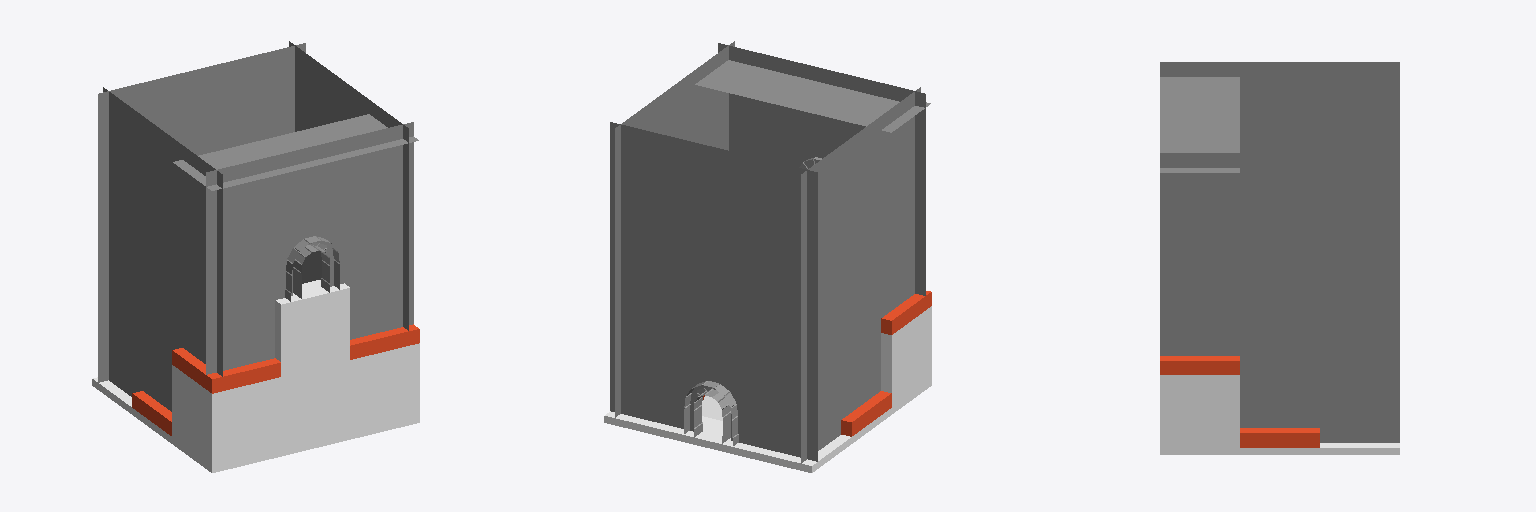
File: straightStairs.obj
3 views of the same model, side by side, from view 1: azimuth 30°, elevation 25°; view 2: azimuth 150°, elevation 25°; view 3: azimuth 270°, elevation 25° (orthographic).
Visible parts, largest first — view 1: struct_wall_main_half_18, struct_wall_main_half_24, struct_wall_main_half_15, struct_wall_main_half_14, block_default_9, struct_wall_main_half_17, block_default_20, block_default_8, block_default_4, struct_ceiling_25, struct_wall_main_half_16, struct_door_19 (+5 smaller); view 2: struct_wall_main_half_24, struct_wall_main_half_18, struct_wall_main_half_17, struct_ceiling_25, struct_wall_main_half_23, struct_wall_main_half_22, struct_door_21, struct_wall_main_half_14, block_default_0, block_default_9, struct_wall_main_half_15, struct_wall_main_half_16 (+3 smaller); view 3: struct_wall_main_half_17, struct_wall_main_half_18, struct_ceiling_25, block_default_8, block_default_0, open_block_10, open_block_12.
Boxes of the visible parts, box(x1,y1,x2,y2) form: struct_wall_main_half_18: box(103, 87, 222, 411); struct_wall_main_half_24: box(98, 43, 305, 310); struct_wall_main_half_15: box(206, 156, 274, 374); struct_wall_main_half_14: box(344, 122, 413, 339); block_default_9: box(172, 365, 280, 465); struct_wall_main_half_17: box(289, 41, 408, 330); block_default_20: box(275, 280, 349, 376); block_default_8: box(350, 343, 419, 431); block_default_4: box(281, 360, 349, 448); struct_ceiling_25: box(173, 114, 418, 190); struct_wall_main_half_16: box(275, 139, 343, 227); struct_door_19: box(275, 211, 343, 301); struct_wall_main_half_24: box(610, 122, 817, 388); struct_wall_main_half_18: box(801, 87, 920, 463); struct_wall_main_half_17: box(615, 41, 734, 417); struct_ceiling_25: box(695, 60, 930, 132); struct_wall_main_half_23: box(610, 339, 679, 427); struct_wall_main_half_22: box(749, 373, 817, 461); struct_door_21: box(680, 356, 748, 445); struct_wall_main_half_14: box(718, 43, 786, 164); block_default_0: box(604, 379, 931, 472); block_default_9: box(881, 306, 931, 406); struct_wall_main_half_15: box(856, 77, 925, 295); struct_wall_main_half_16: box(787, 60, 855, 144); struct_wall_main_half_17: box(1160, 153, 1399, 442); struct_wall_main_half_18: box(1160, 62, 1399, 152); struct_ceiling_25: box(1160, 77, 1239, 172); block_default_8: box(1160, 375, 1239, 447); block_default_0: box(1160, 443, 1399, 454); open_block_10: box(1240, 428, 1319, 447); open_block_12: box(1160, 356, 1239, 374).
Size of the model in its own units: 3 by 4.1 by 3.